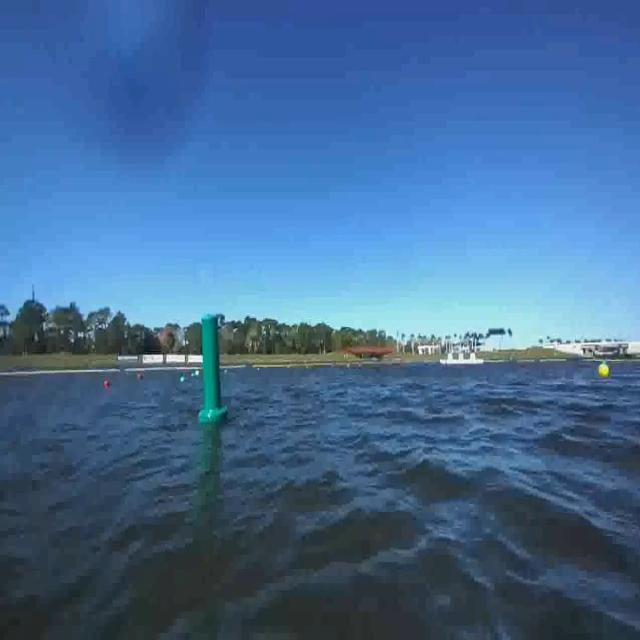green-column-buoy: (199, 313, 229, 426)
yellow-buoy: (599, 360, 610, 378)
